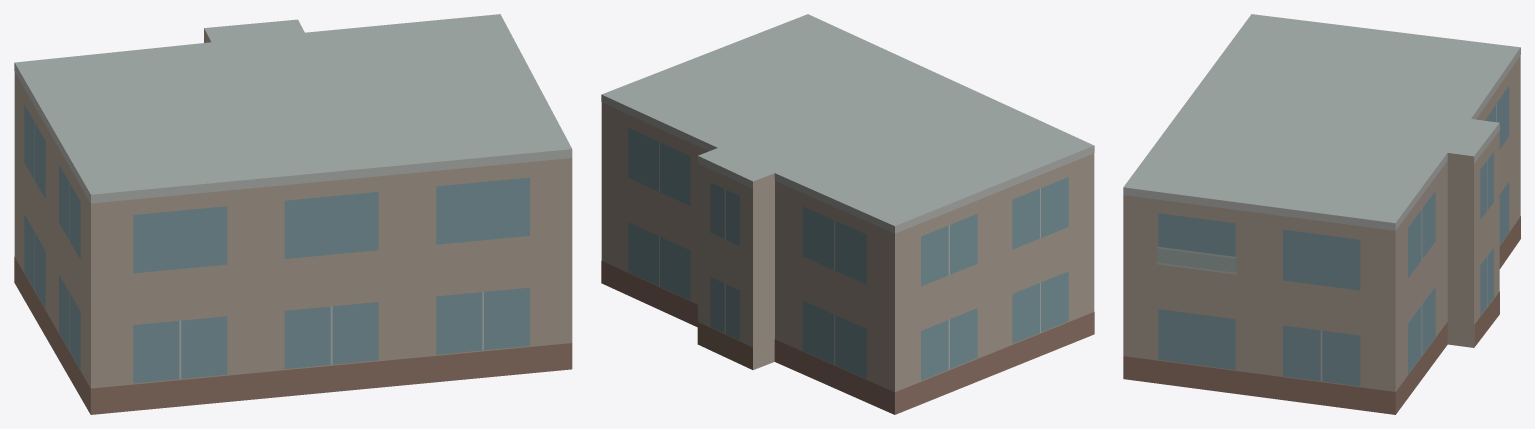
Rendered from survey-upis-32678322.glb.
3 views of the same model, side by side, from view 1: azimuth 30°, elevation 25°; view 2: azimuth 150°, elevation 25°; view 3: azimuth 270°, elevation 25° (orthographic). The views are drawn at different scales.
Visible parts, largest first — view 1: survey-upis-32678322.tmp; view 2: survey-upis-32678322.tmp; view 3: survey-upis-32678322.tmp.
Part boxes in pixels (x1,y1,x2,y2): survey-upis-32678322.tmp: (14, 14, 572, 414); survey-upis-32678322.tmp: (601, 14, 1094, 414); survey-upis-32678322.tmp: (1123, 14, 1520, 414).
Size of the model in its own units: 14.29 by 6.1 by 11.48.
